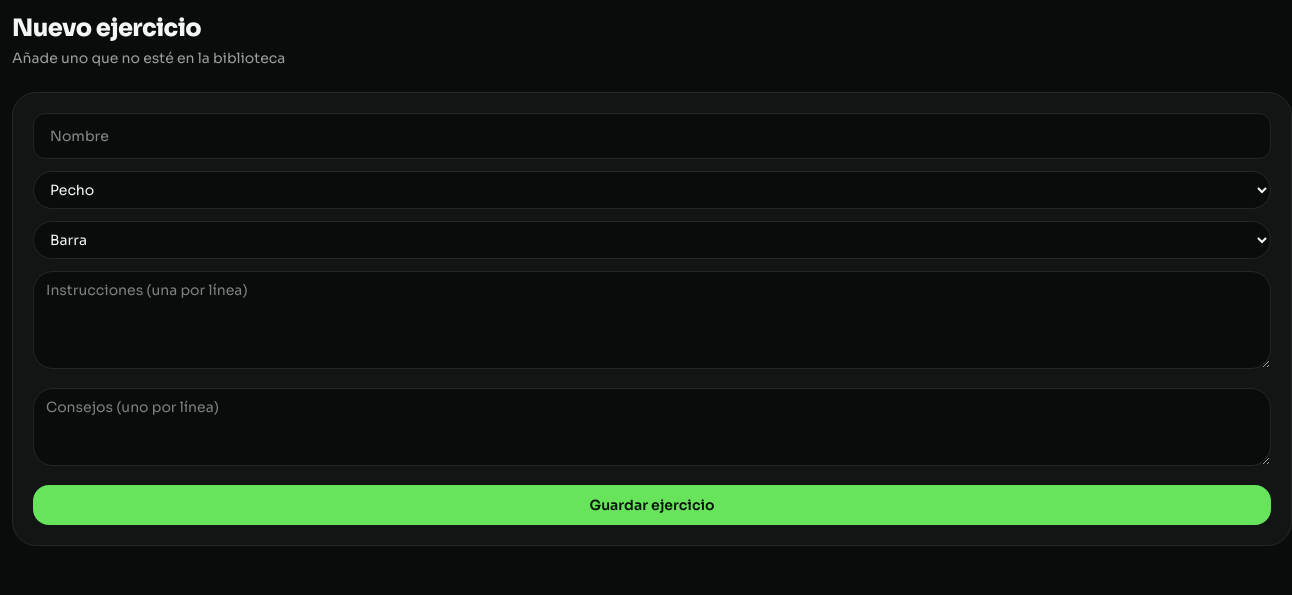
Test case: nuevo ejercicio › E2: a failed save shows a Spanish error and stays on the form
Type "Remo" into the field with placeholder "Nombre". click: (652, 136)
box: [33,113,1271,159]
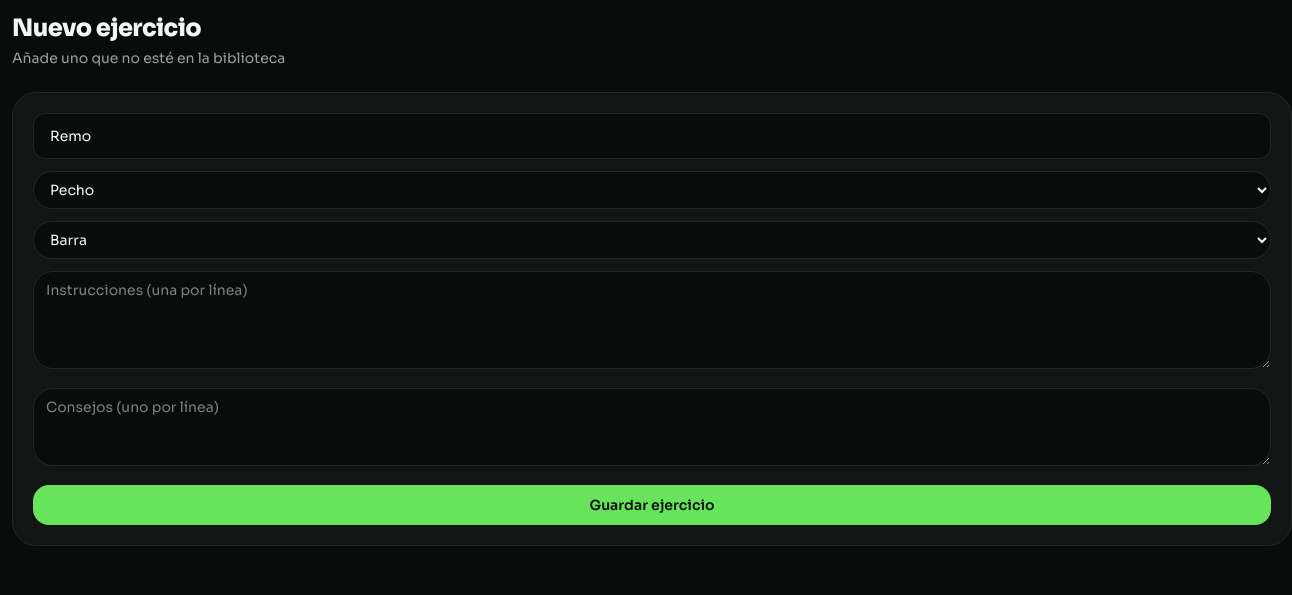
Click the button "Guardar ejercicio". click: (652, 505)
box: [33,485,1271,525]
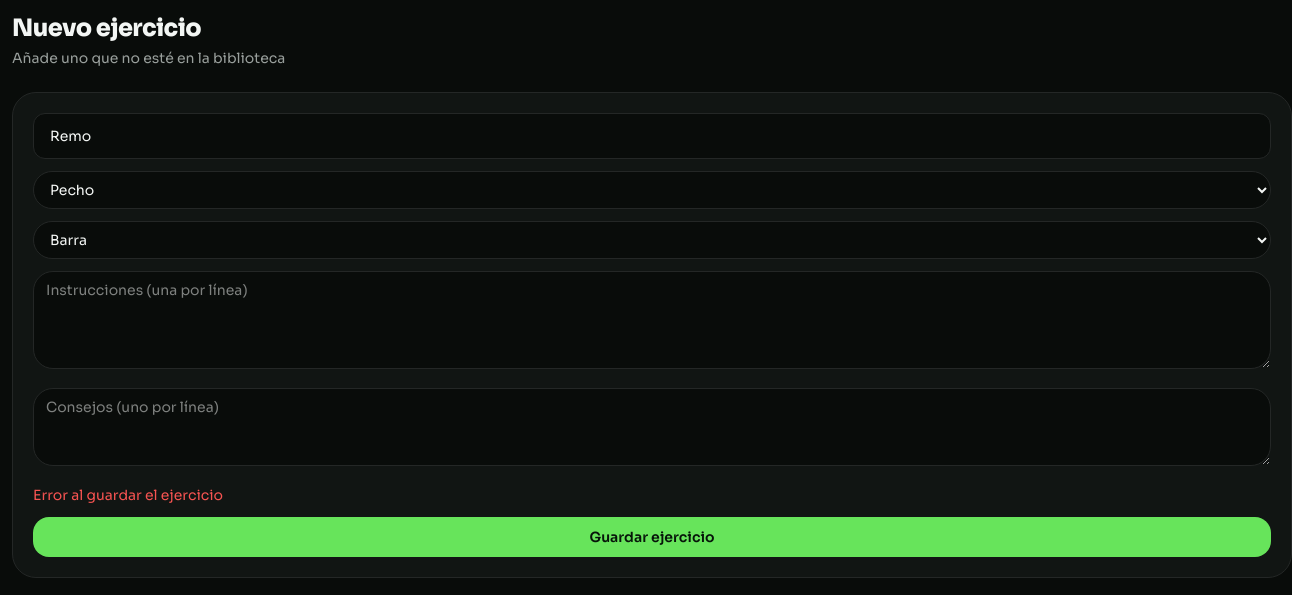
Expected: the text "Error al guardar el ejercicio" is shown, [33,486,223,504]
